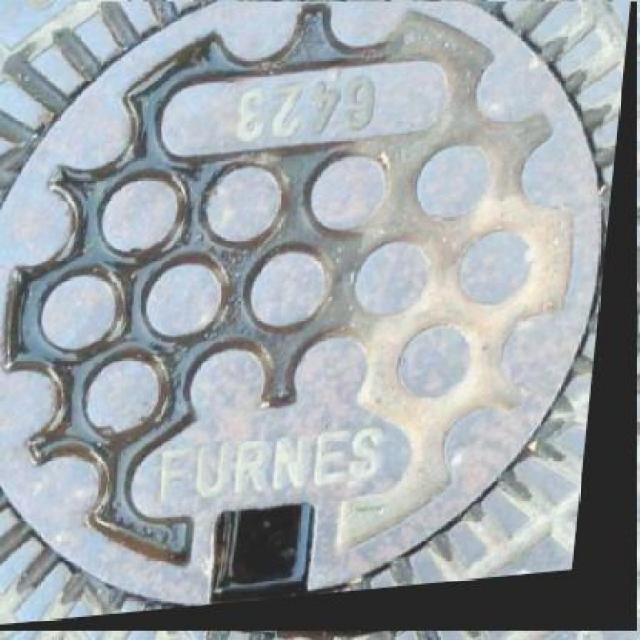Manhole: (0, 2, 637, 630)
